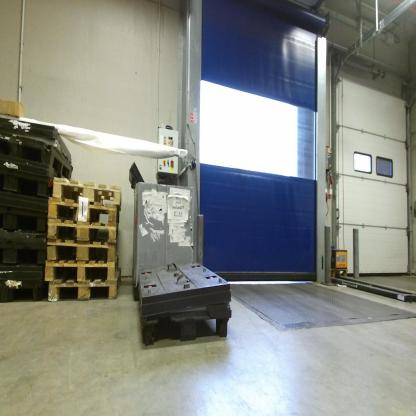pallet: (48, 173, 121, 222), (42, 270, 123, 309), (40, 217, 120, 249), (43, 255, 118, 286), (41, 197, 120, 226), (47, 237, 121, 265)
